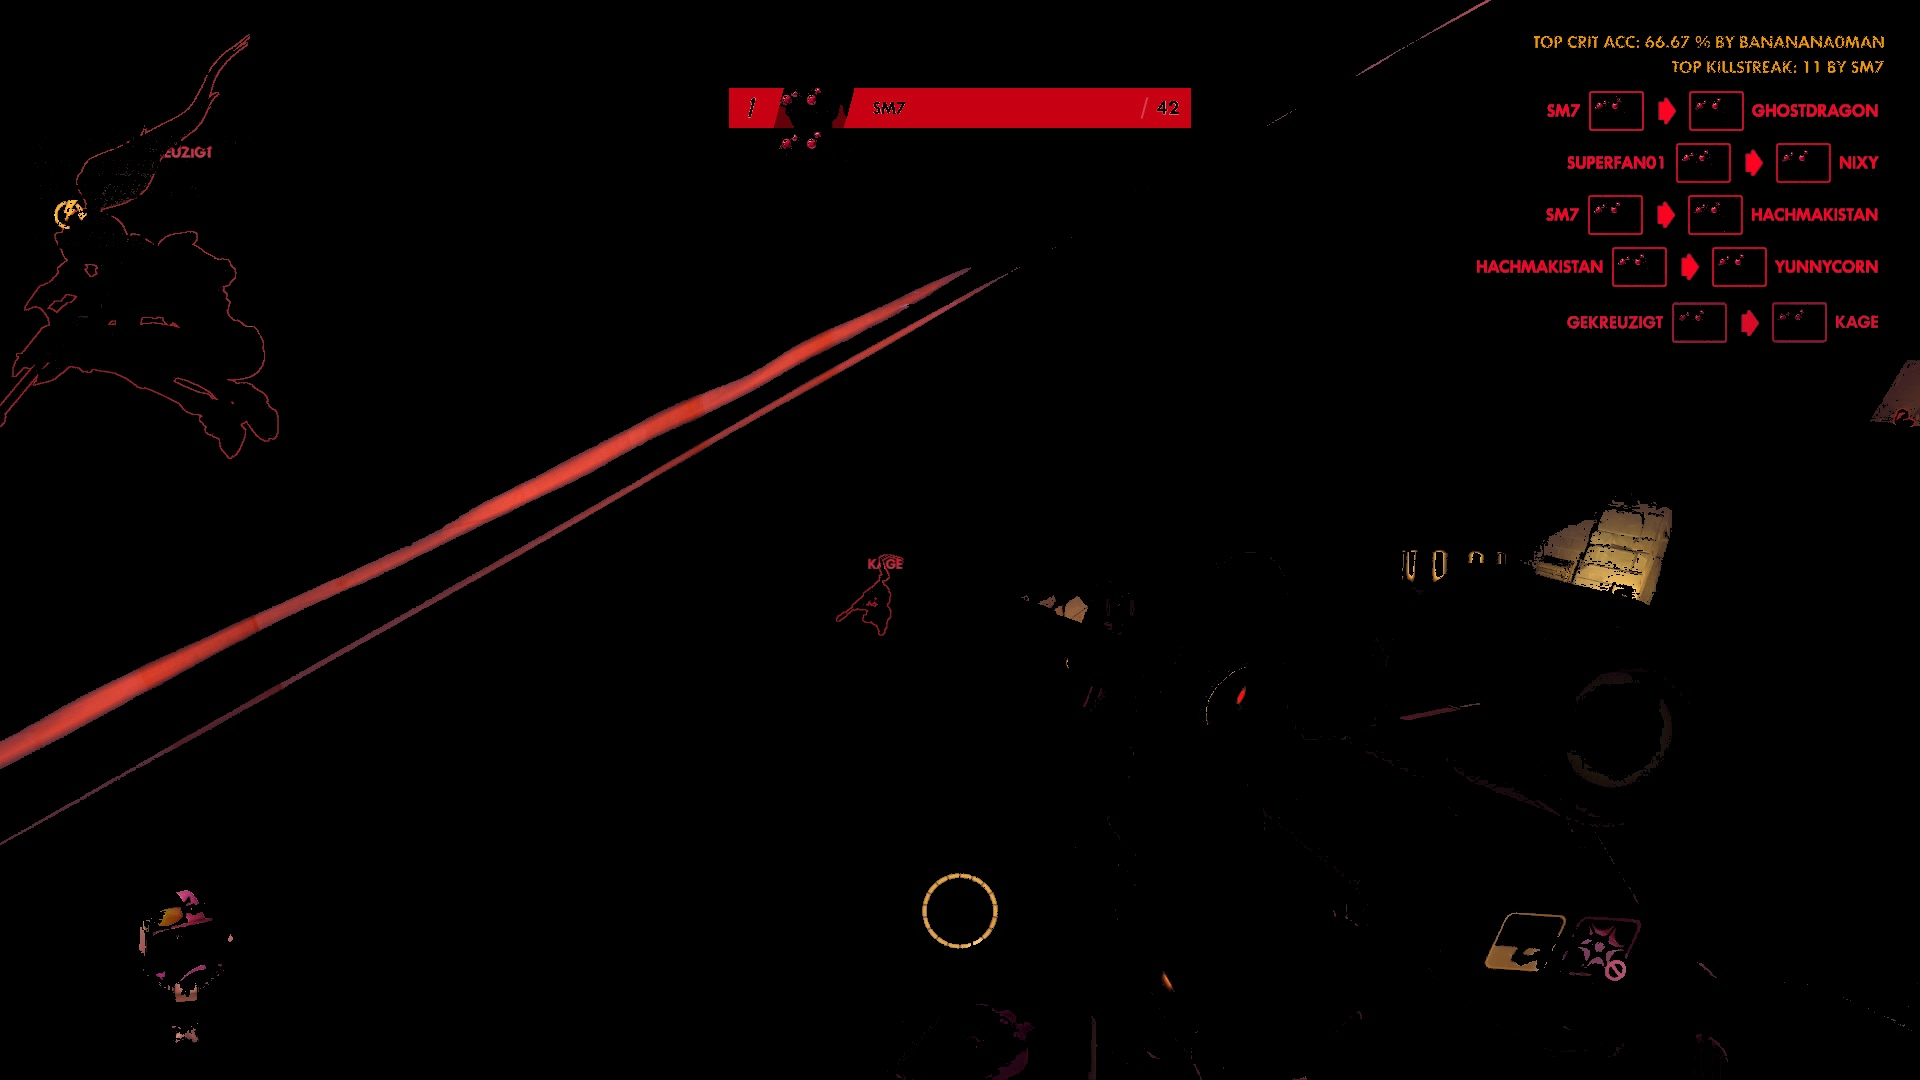widowmaker: (1, 129, 295, 481), (848, 574, 899, 640)
